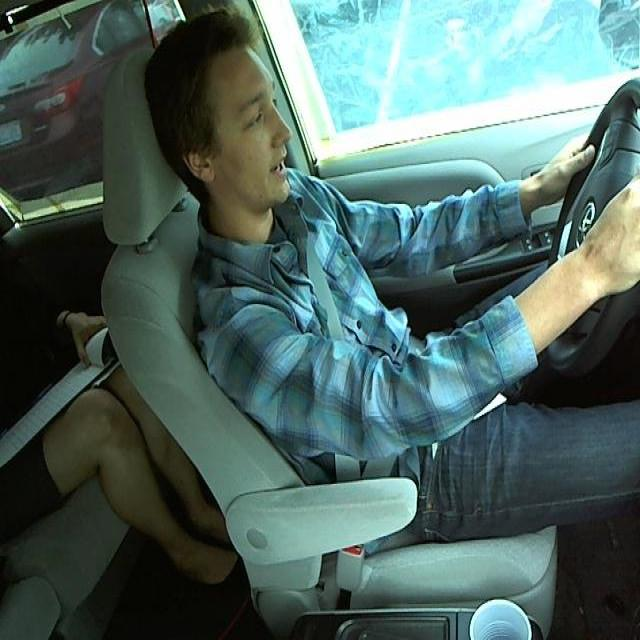without_using_phone: (130, 4, 319, 226)
